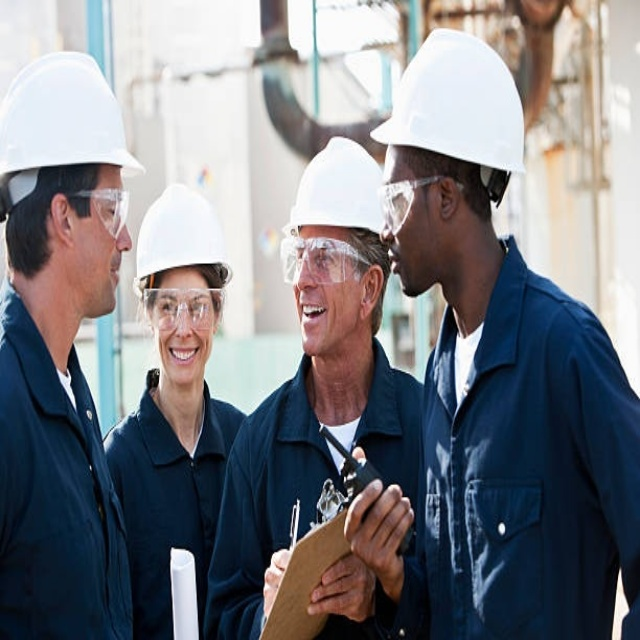Gafas: (278, 237, 367, 279), (379, 169, 437, 232), (62, 187, 133, 237), (143, 289, 225, 325)
Sin_guantes: (340, 470, 415, 591), (307, 549, 373, 626), (261, 548, 291, 628)
Sin_mascara: (160, 337, 204, 384), (87, 254, 123, 311), (382, 242, 416, 295), (296, 298, 336, 336)
